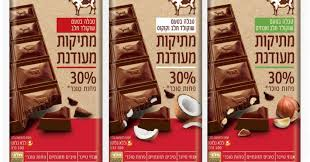Chocolate: (209, 2, 303, 162), (109, 2, 202, 162), (8, 3, 100, 162)
